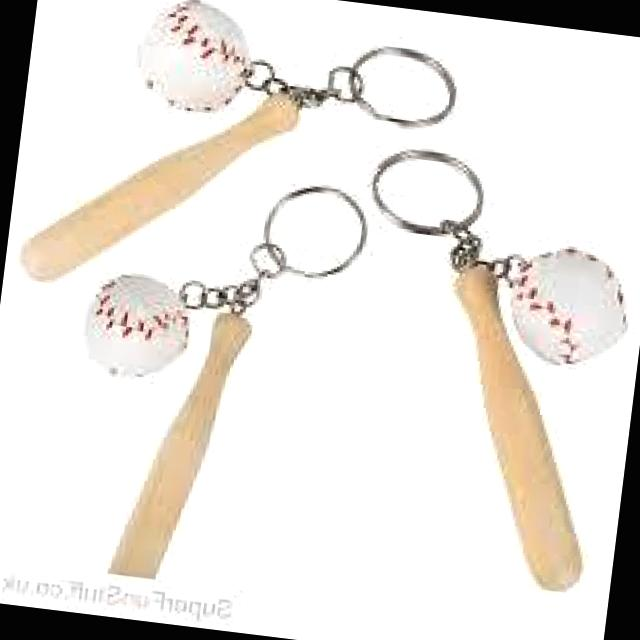ball: (499, 231, 640, 378), (66, 258, 208, 392), (123, 0, 263, 121)
